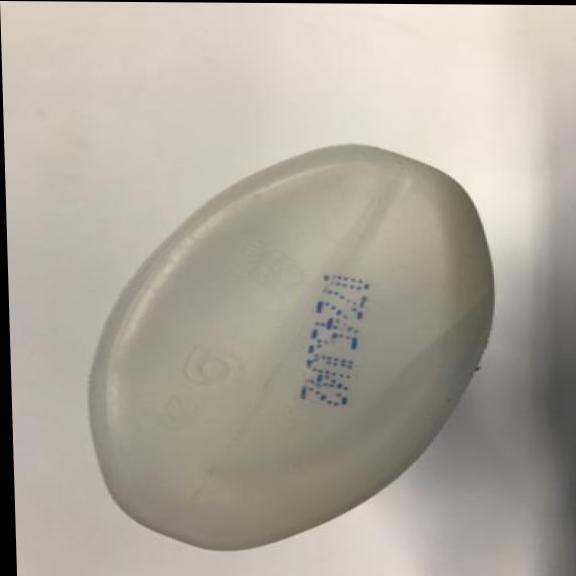Plastik: (59, 129, 511, 559)
